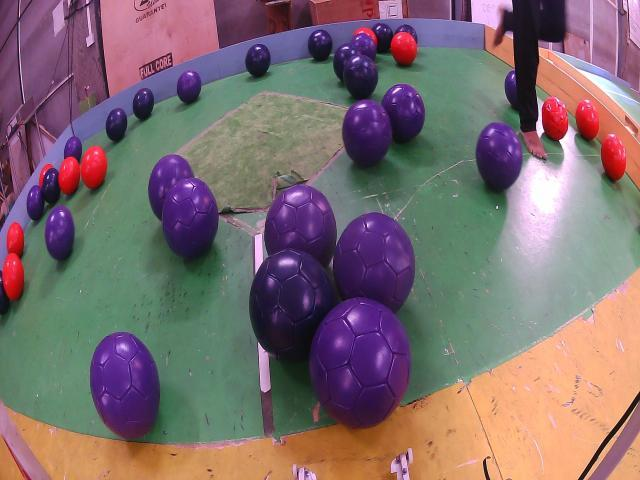jambhalya: (310, 298, 411, 428), (332, 212, 415, 312), (90, 332, 160, 440), (264, 185, 336, 267), (161, 177, 219, 258), (342, 100, 392, 167), (476, 122, 522, 190), (149, 155, 194, 220), (381, 83, 425, 143), (45, 205, 75, 260), (176, 70, 201, 103), (350, 33, 376, 60), (26, 185, 45, 220), (505, 70, 519, 110), (64, 137, 82, 162)
kaalyya: (249, 248, 335, 362), (342, 55, 379, 100), (332, 43, 360, 80), (245, 43, 270, 77), (308, 30, 332, 62), (106, 108, 128, 141), (132, 88, 154, 120), (42, 167, 60, 205), (372, 23, 394, 53), (395, 23, 418, 43), (0, 270, 10, 314)
